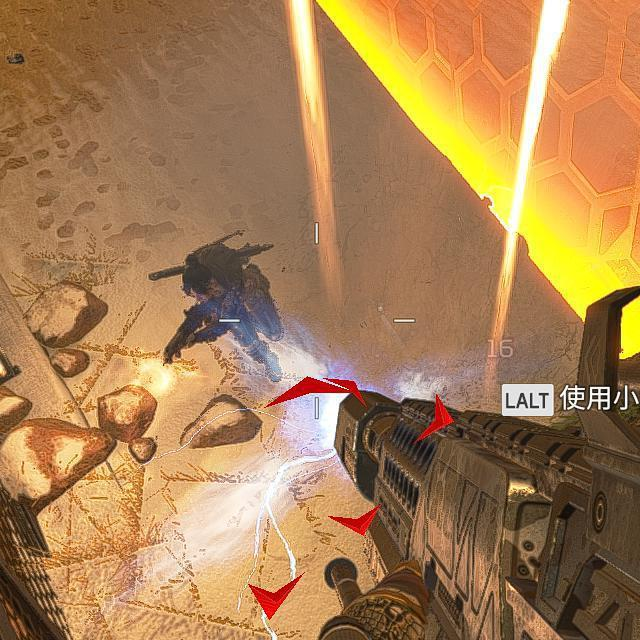avatar: (158, 238, 286, 385)
